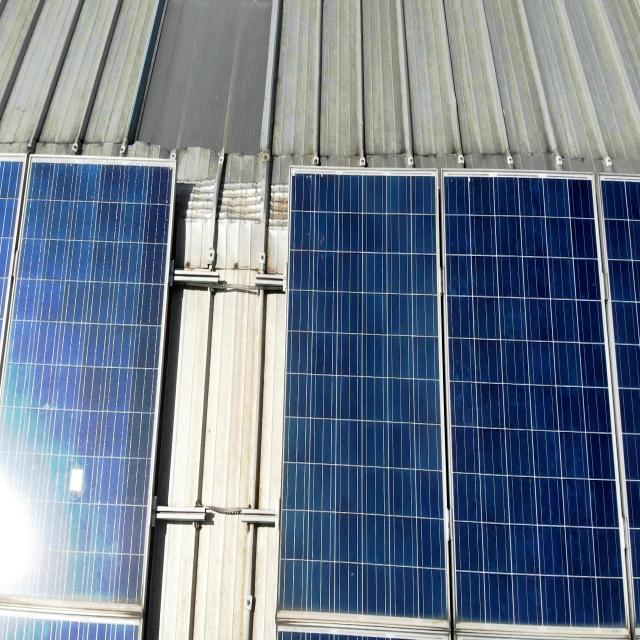faulty: (440, 176, 632, 640), (275, 166, 452, 628), (0, 160, 176, 606)
